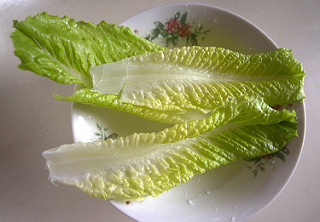lettuce: (13, 15, 300, 206)
